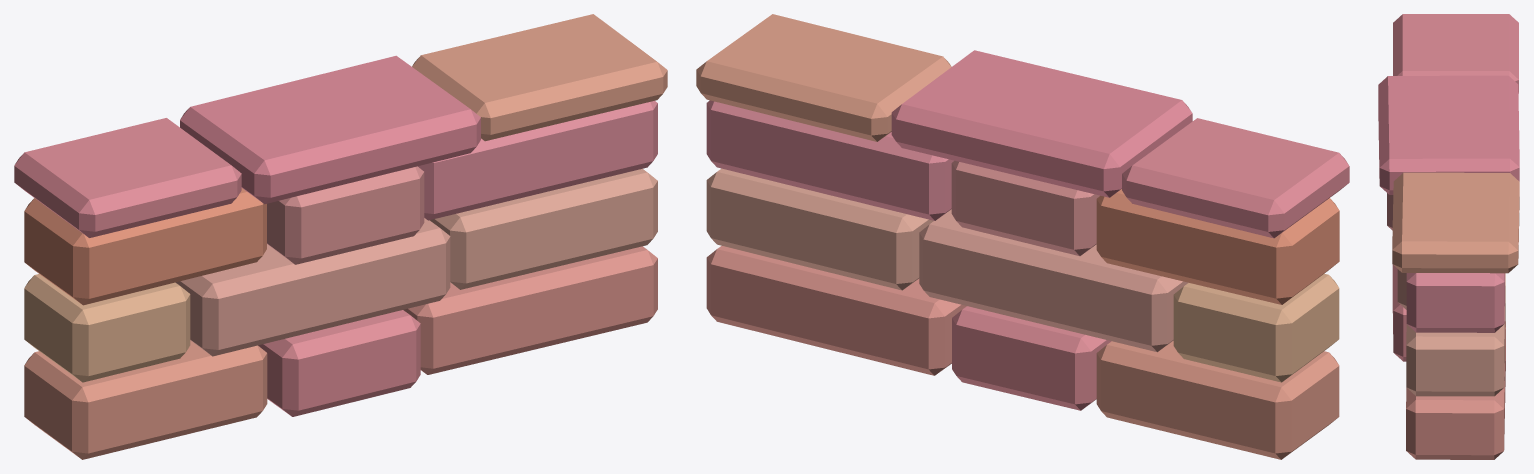
Rendered from WC_RIVER_Bank_Straight_A.glb.
3 renders of one model, left to right at view 1: azimuth 30°, elevation 25°; view 2: azimuth 150°, elevation 25°; view 3: azimuth 270°, elevation 25°, orthographic. The views are drawn at different scales.
Visible parts, largest first — view 1: WC_RIVER_Bank_Straight_A_RenderMesh; view 2: WC_RIVER_Bank_Straight_A_RenderMesh; view 3: WC_RIVER_Bank_Straight_A_RenderMesh.
Boxes of the visible parts, <box> form: WC_RIVER_Bank_Straight_A_RenderMesh: <box>14,14,667,459</box>; WC_RIVER_Bank_Straight_A_RenderMesh: <box>696,14,1349,459</box>; WC_RIVER_Bank_Straight_A_RenderMesh: <box>1378,14,1519,459</box>.
Bounding box in the file's own units: 1.99 × 0.8795 × 0.5051.
